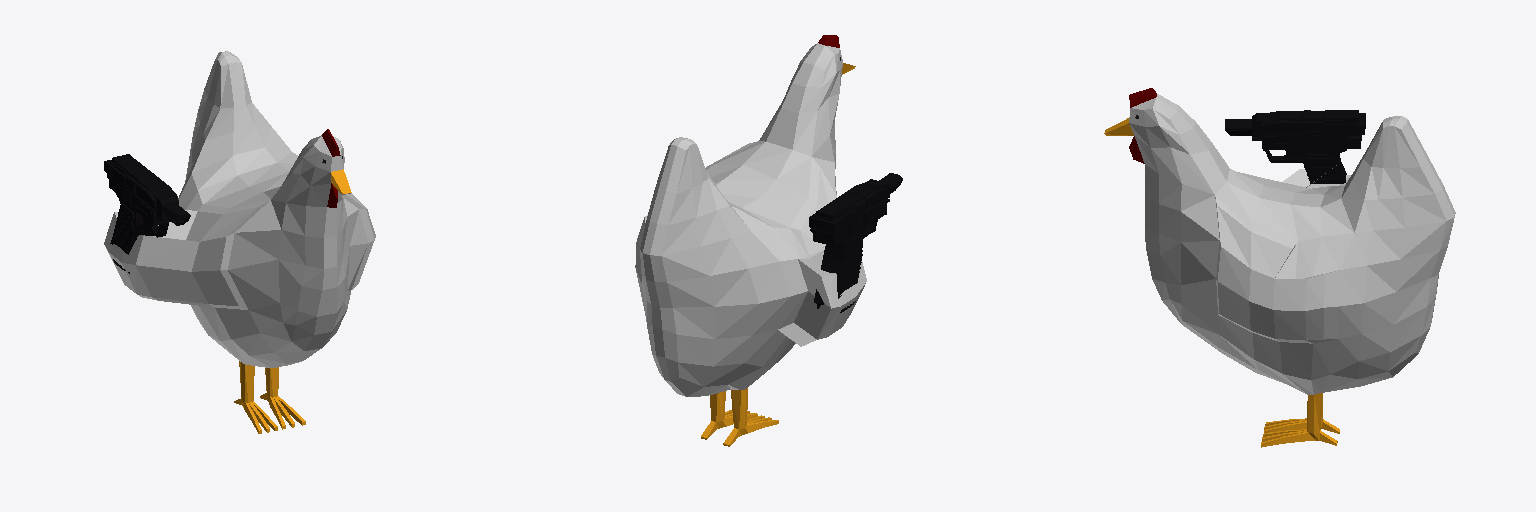
File: chicken_w_gun.obj
3 views of the same model, side by side, from view 1: azimuth 30°, elevation 25°; view 2: azimuth 150°, elevation 25°; view 3: azimuth 270°, elevation 25° (orthographic).
Parts seen in each view (by area): view 1: Chicken.001, Cube.044, Cube.048, Cube.054_Cube.055; view 2: Chicken.001, Cube.044, Cube.054_Cube.055, Cube.048, Cube.051, Cube.049; view 3: Chicken.001, Cube.048, Cube.044, Cube.054_Cube.055, Cube.050.
Boxes of the visible parts, x1,y1,x2,y2 form: Chicken.001: [104, 51, 375, 433]; Cube.044: [112, 154, 178, 221]; Cube.048: [112, 170, 177, 225]; Cube.054_Cube.055: [110, 205, 154, 270]; Chicken.001: [635, 35, 866, 446]; Cube.044: [816, 179, 889, 219]; Cube.054_Cube.055: [814, 234, 863, 312]; Cube.048: [833, 182, 887, 237]; Cube.051: [815, 228, 862, 308]; Cube.049: [809, 208, 857, 233]; Chicken.001: [1104, 88, 1455, 447]; Cube.048: [1261, 111, 1348, 149]; Cube.044: [1252, 110, 1358, 140]; Cube.054_Cube.055: [1306, 154, 1344, 183]; Cube.050: [1262, 113, 1360, 149].
Size of the model in its own units: 0.7358 by 1.08 by 1.